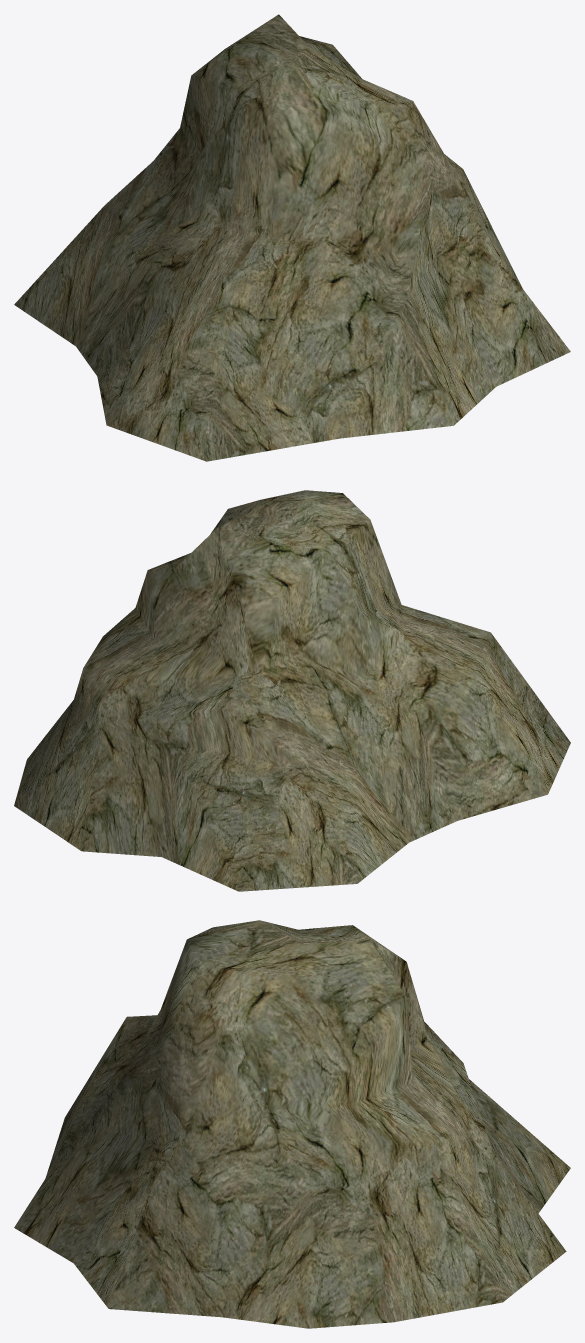
File: rock_plain_white_l1.fbx
3 renders of one model, top to bottom at view 1: azimuth 30°, elevation 25°; view 2: azimuth 150°, elevation 25°; view 3: azimuth 270°, elevation 25°, orthographic. The views are drawn at different scales.
Visible parts, largest first — view 1: mesh_node; view 2: mesh_node; view 3: mesh_node.
Part boxes in pixels (left/top/right/bottom): mesh_node: left=14, top=14, right=570, bottom=461; mesh_node: left=14, top=490, right=570, bottom=891; mesh_node: left=14, top=920, right=570, bottom=1328.
Bounding box in the file's own units: 5.56 × 3.24 × 5.69.
